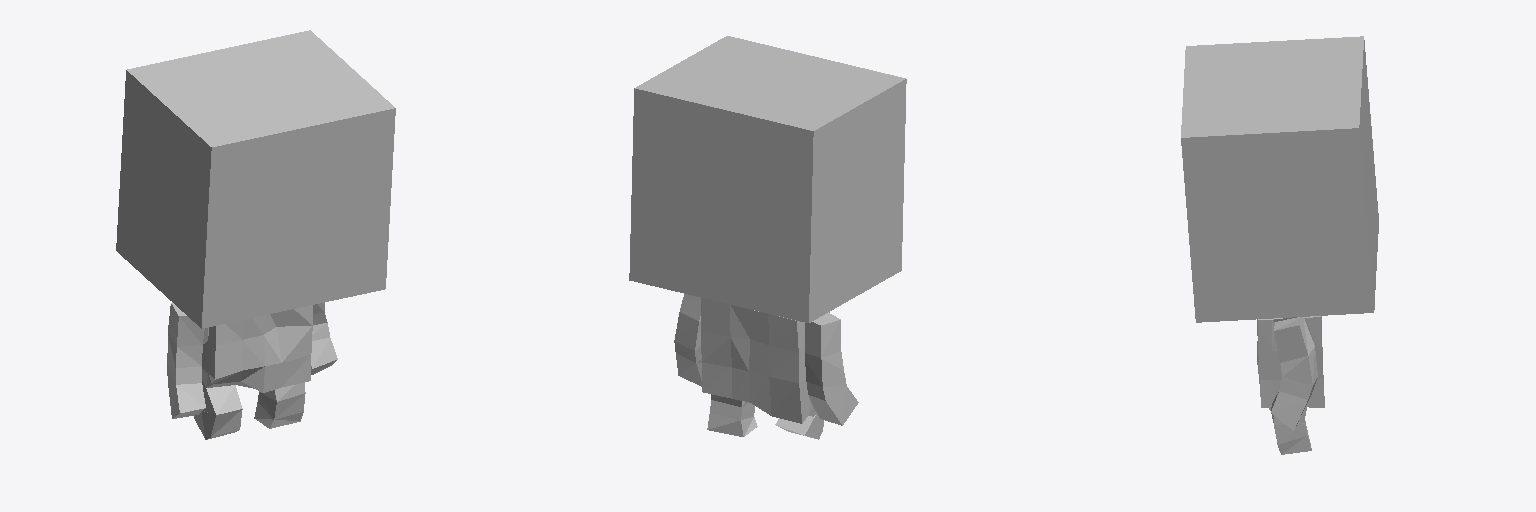
Rendered from boxman-animation-hodba_000012.obj.
The picture shows the model from 3 angles: view 1: azimuth 30°, elevation 25°; view 2: azimuth 150°, elevation 25°; view 3: azimuth 270°, elevation 25°; orthographic projection.
Visible parts, largest first — view 1: Cube; view 2: Cube; view 3: Cube.
Part boxes in pixels (left/top/right/bottom): Cube: left=116, top=30, right=395, bottom=439; Cube: left=629, top=36, right=906, bottom=439; Cube: left=1181, top=36, right=1378, bottom=454.
Bounding box in the file's own units: 2.11 × 3.79 × 1.93.